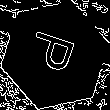P_E: (26, 30, 84, 80)
